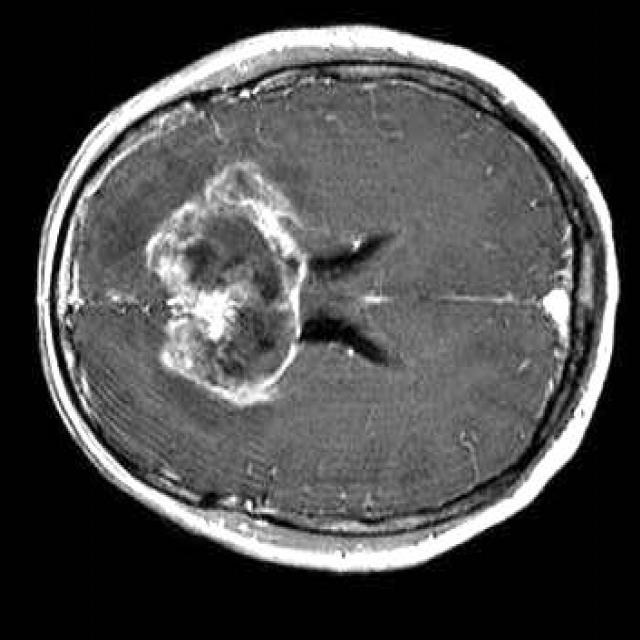tumor: (143, 164, 305, 407)
